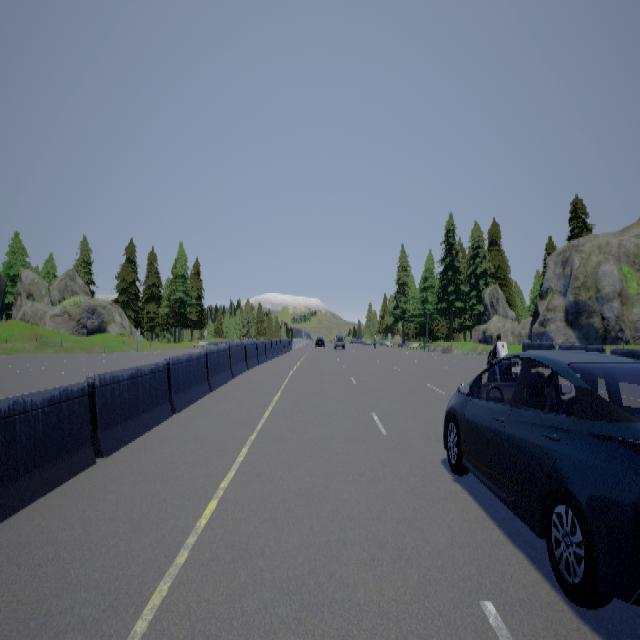motobike: (484, 332, 512, 391)
vehicle: (442, 349, 639, 608), (331, 332, 345, 350), (312, 330, 324, 349)
